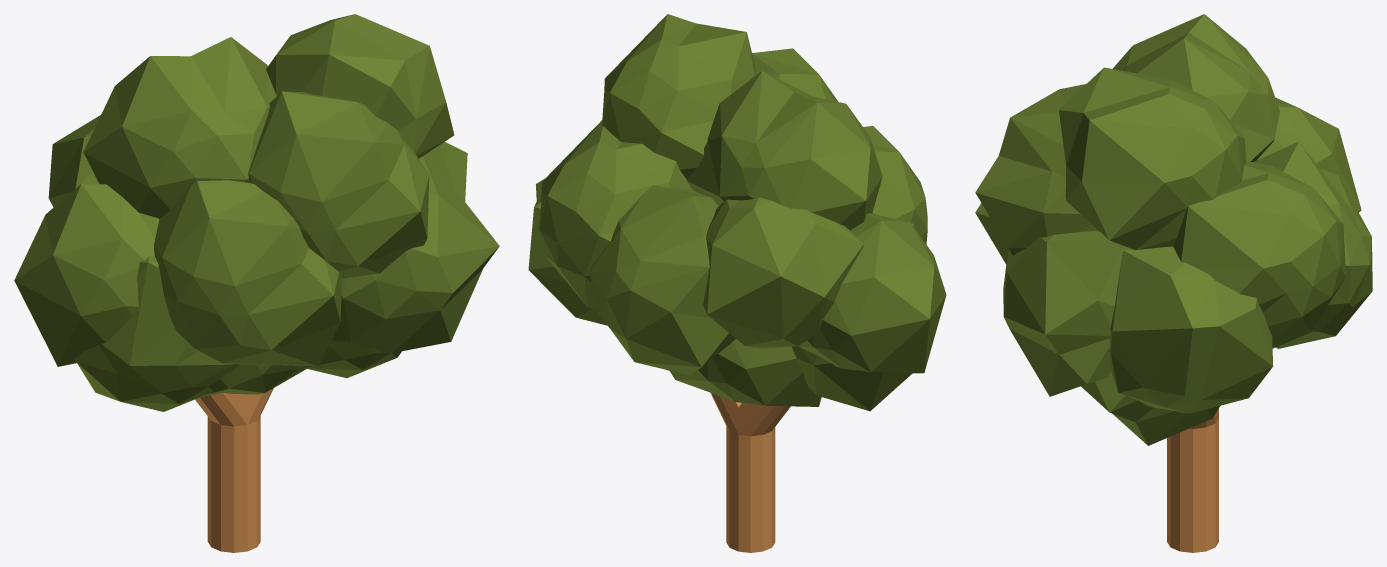
File: TreeWide.fbx
The picture shows the model from 3 angles, left to right: view 1: azimuth 30°, elevation 25°; view 2: azimuth 150°, elevation 25°; view 3: azimuth 270°, elevation 25°; orthographic projection. The views are drawn at different scales.
Parts seen in each view (by area): view 1: TreeWideLeaf; view 2: TreeWideLeaf; view 3: TreeWideLeaf.
Boxes of the visible parts, x1,y1,x2,y2 form: TreeWideLeaf: (14, 14, 499, 552); TreeWideLeaf: (528, 14, 946, 552); TreeWideLeaf: (975, 14, 1372, 552).
Bounding box in the file's own units: 4.8 × 5.32 × 3.83.
